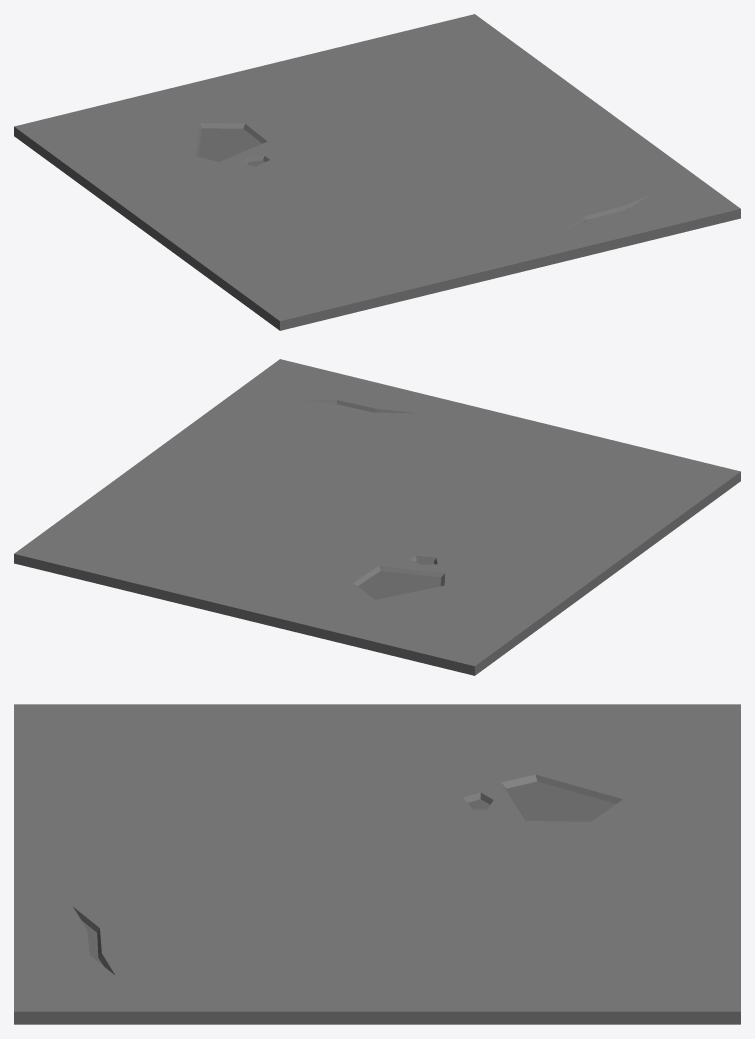
Rendered from Floor_10.fbx.
3 renders of one model, top to bottom at view 1: azimuth 30°, elevation 25°; view 2: azimuth 150°, elevation 25°; view 3: azimuth 270°, elevation 25°, orthographic. The views are drawn at different scales.
Parts seen in each view (by area): view 1: Floor_10; view 2: Floor_10; view 3: Floor_10.
Boxes of the visible parts, box(x1,y1,x2,y2) form: Floor_10: box(14, 14, 740, 330); Floor_10: box(14, 359, 740, 675); Floor_10: box(14, 704, 740, 1024).
Size of the model in its own units: 500 by 10 by 500.
